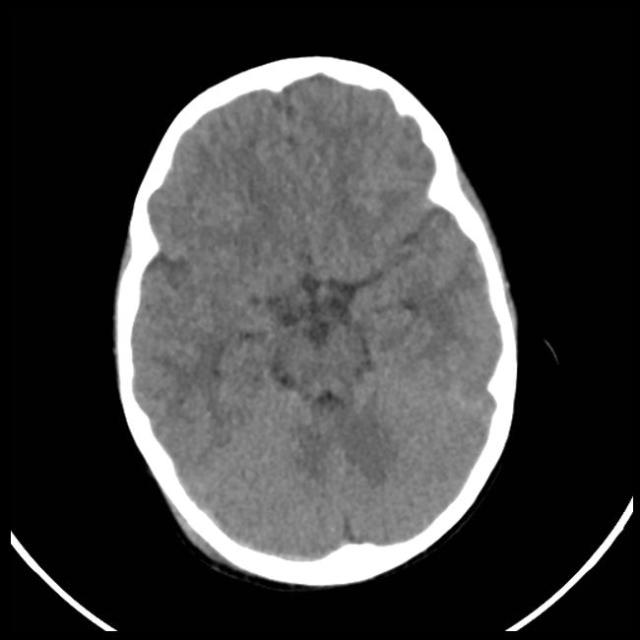lesion: (113, 60, 519, 580)
